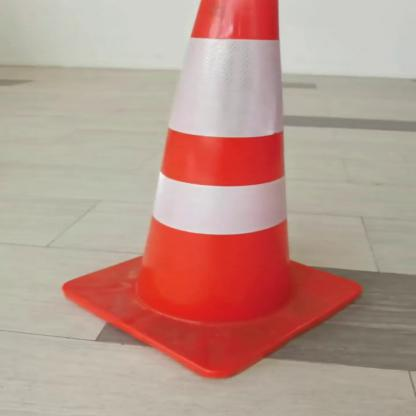cone: (48, 0, 383, 384)
